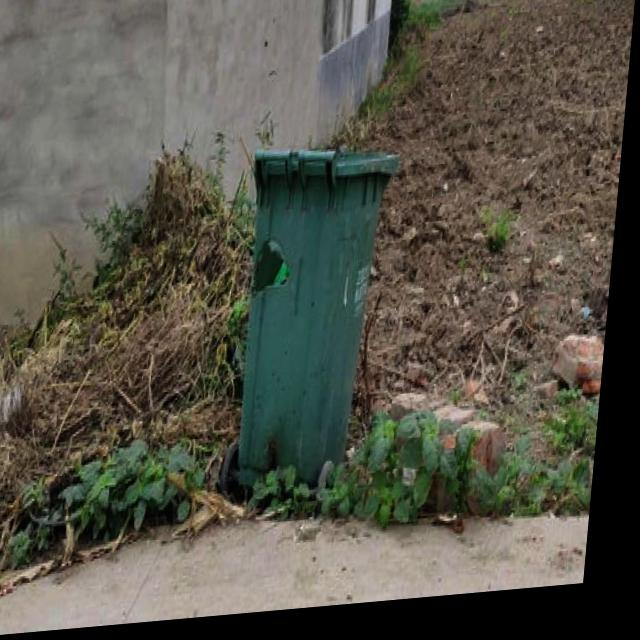garbage_bin: (233, 142, 404, 496)
